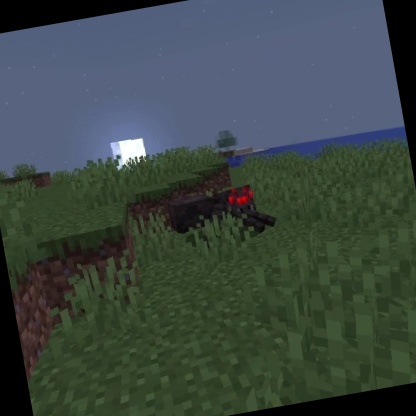spider: (164, 175, 282, 250)
